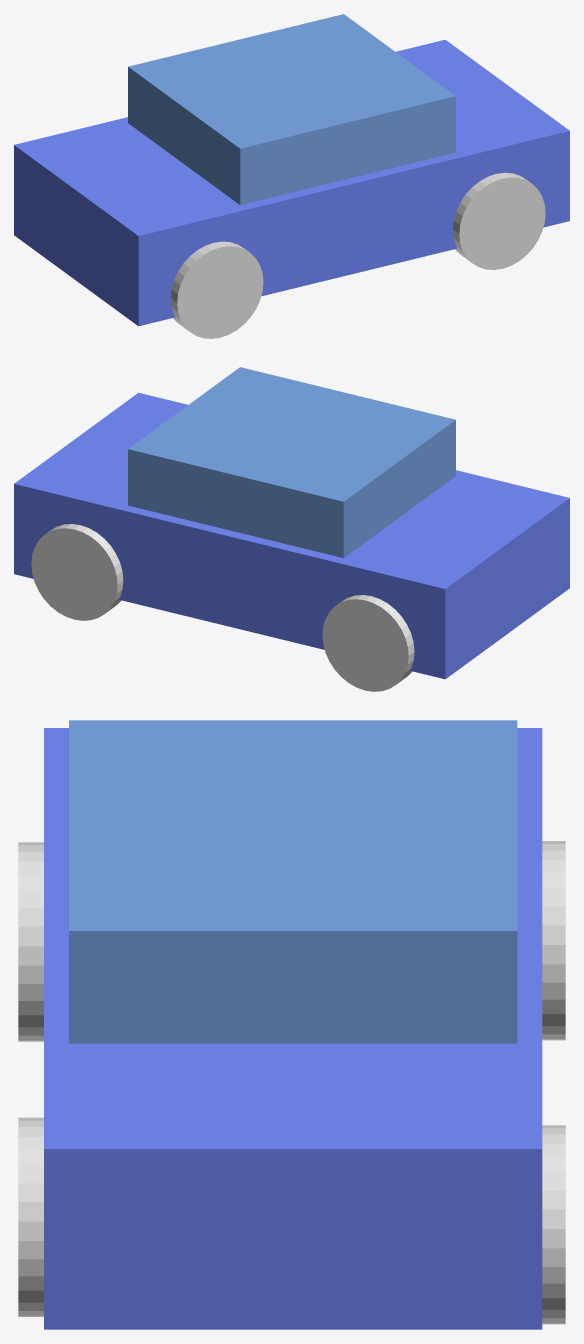
File: car.glb
The picture shows the model from 3 angles, top to bottom: view 1: azimuth 30°, elevation 25°; view 2: azimuth 150°, elevation 25°; view 3: azimuth 270°, elevation 25°; orthographic projection. The views are drawn at different scales.
Visible parts, largest first — view 1: CubeBottom, CubeTop, Cylinder.002, Cylinder; view 2: CubeBottom, CubeTop, Cylinder.001, Cylinder.003; view 3: CubeBottom, CubeTop, Cylinder, Cylinder.002, Cylinder.001, Cylinder.003.
Boxes of the visible parts, left/top/right/bottom form: CubeBottom: left=14, top=39, right=569, bottom=326; CubeTop: left=128, top=14, right=455, bottom=204; Cylinder.002: left=170, top=241, right=263, bottom=338; Cylinder: left=453, top=172, right=545, bottom=269; CubeBottom: left=14, top=392, right=569, bottom=679; CubeTop: left=128, top=367, right=455, bottom=558; Cylinder.001: left=31, top=524, right=123, bottom=620; Cylinder.003: left=322, top=595, right=414, bottom=691; CubeBottom: left=44, top=728, right=542, bottom=1329; CubeTop: left=69, top=720, right=517, bottom=1043; Cylinder: left=18, top=1117, right=43, bottom=1316; Cylinder.002: left=18, top=842, right=43, bottom=1041; Cylinder.001: left=542, top=1125, right=565, bottom=1324; Cylinder.003: left=542, top=841, right=565, bottom=1040.
Size of the model in its own units: 4 by 1.52 by 2.2.
